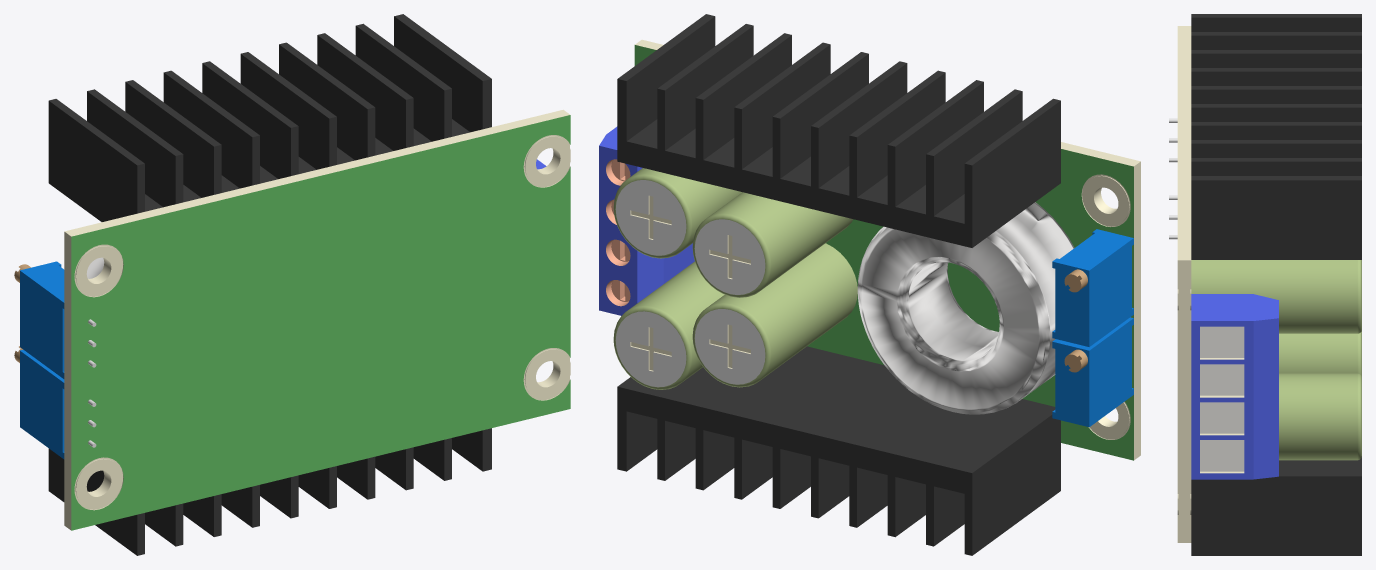
File: converter_DC_DC.dae
3 renders of one model, left to right at view 1: azimuth 30°, elevation 25°; view 2: azimuth 150°, elevation 25°; view 3: azimuth 270°, elevation 25°, orthographic. The views are drawn at different scales.
Visible parts, largest first — view 1: Body1, Body1.002, Body1.001; view 2: Body1, Body1.003, Body1.002, Body1.001; view 3: Body1.
Part boxes in pixels (x1,y1,x2,y2): Body1: [48, 14, 570, 555]; Body1.002: [14, 261, 96, 378]; Body1.001: [14, 346, 96, 459]; Body1: [599, 14, 1140, 555]; Body1.003: [857, 202, 1074, 414]; Body1.002: [1052, 229, 1133, 346]; Body1.001: [1052, 317, 1133, 427]; Body1: [1177, 14, 1361, 555].
Bounding box in the file's own units: 0.065 × 0.0226 × 0.0486.
